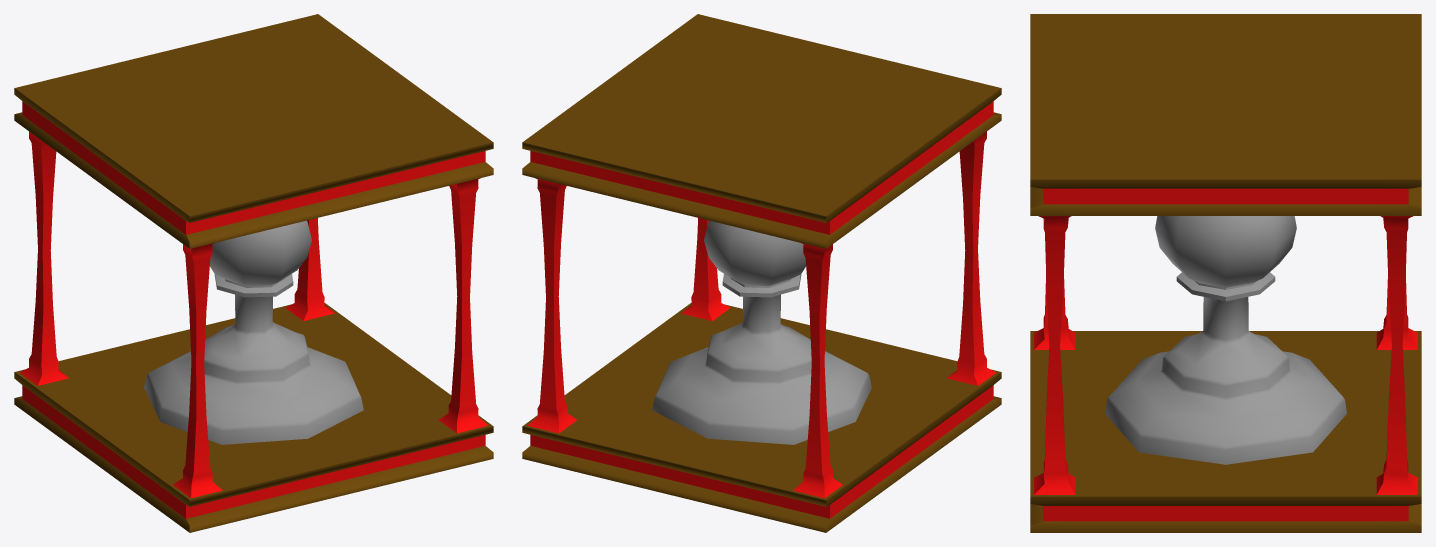
The model's file is piece_1.FBX.
3 renders of one model, left to right at view 1: azimuth 30°, elevation 25°; view 2: azimuth 150°, elevation 25°; view 3: azimuth 270°, elevation 25°, orthographic. The views are drawn at different scales.
Visible parts, largest first — view 1: Box004, Box001; view 2: Box004, Box001; view 3: Box004, Box001.
Part boxes in pixels (x1,y1,x2,y2): Box004: (14, 14, 493, 532); Box001: (144, 220, 363, 444); Box004: (522, 14, 1001, 532); Box001: (652, 220, 871, 444); Box004: (1030, 14, 1421, 532); Box001: (1105, 216, 1346, 464).
Bounding box in the file's own units: 100 × 99.6 × 100.
